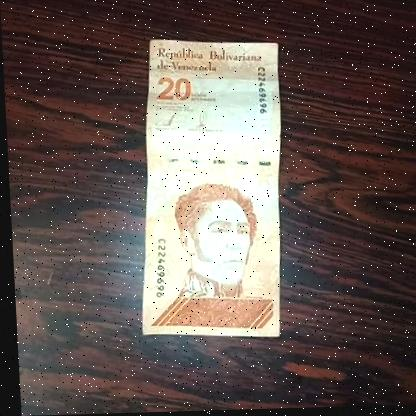twenty-front-vef: (125, 37, 289, 345)
